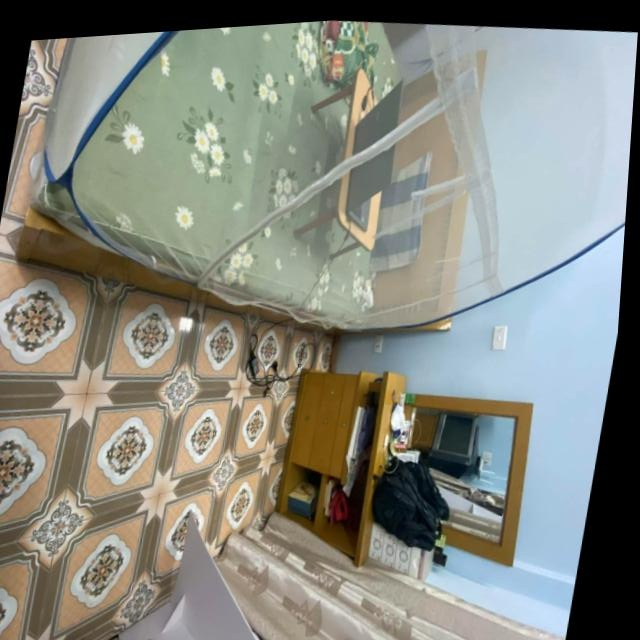outlet: (373, 334, 385, 354)
